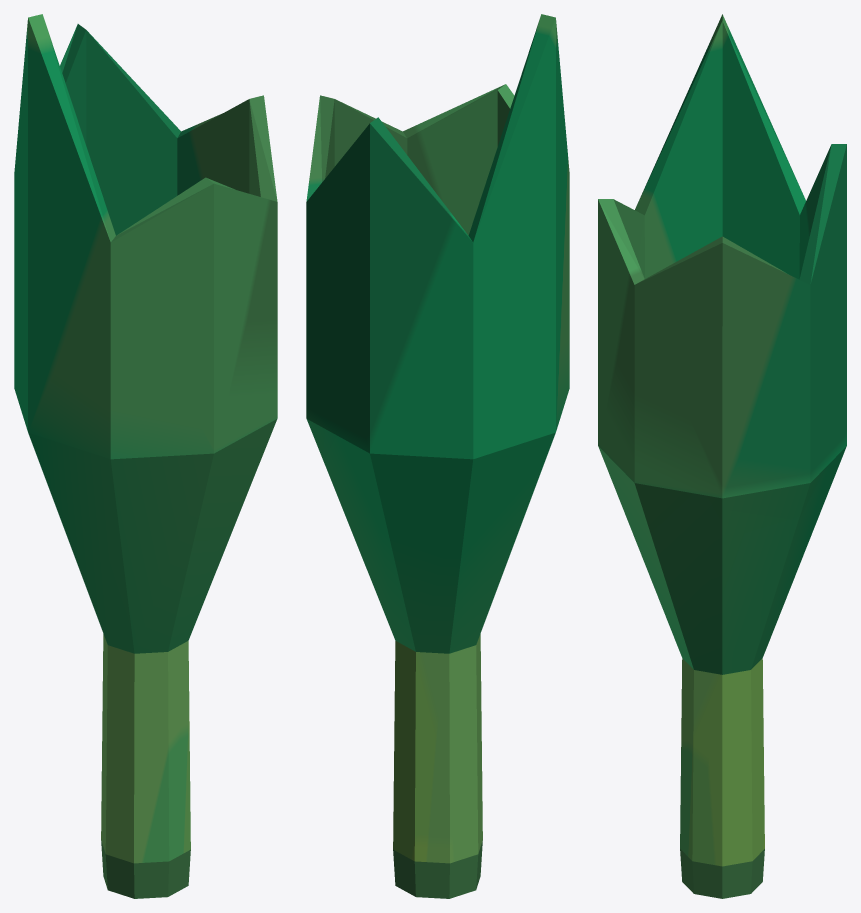
Rendered from Broken_Bottle.fbx.
3 views of the same model, side by side, from view 1: azimuth 30°, elevation 25°; view 2: azimuth 150°, elevation 25°; view 3: azimuth 270°, elevation 25° (orthographic). The views are drawn at different scales.
Visible parts, largest first — view 1: Broken Bottle; view 2: Broken Bottle; view 3: Broken Bottle.
Part boxes in pixels (x1,y1,x2,y2): Broken Bottle: [14, 14, 277, 898]; Broken Bottle: [306, 14, 569, 898]; Broken Bottle: [598, 14, 846, 898].
Size of the model in its own units: 0.1618 by 0.5849 by 0.1618.
